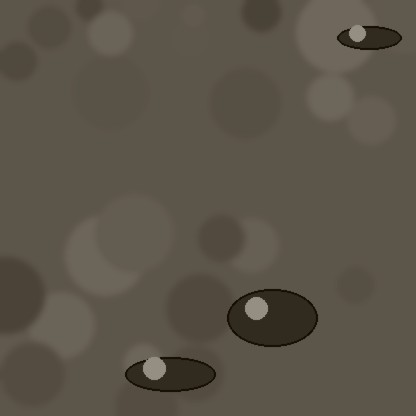gota: (227, 291, 317, 351), (125, 358, 215, 394), (337, 27, 401, 51)
